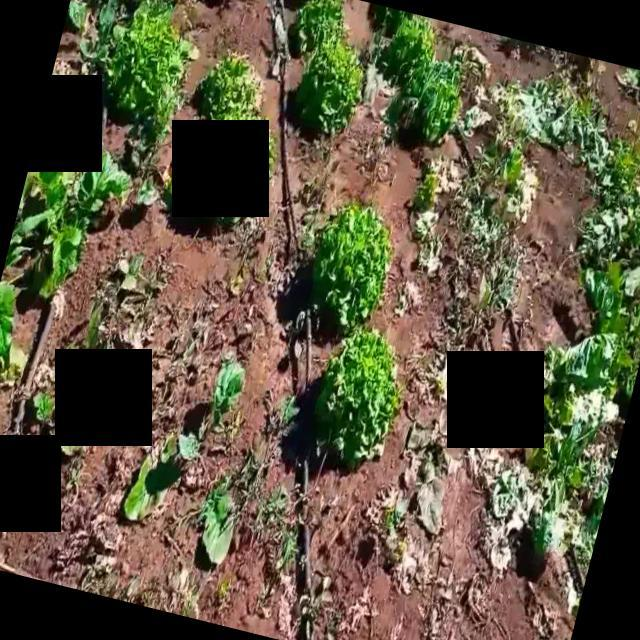Lettuce: (97, 0, 182, 128), (319, 329, 397, 468), (314, 202, 386, 331), (291, 30, 366, 140), (391, 61, 462, 142), (200, 50, 263, 119), (378, 13, 434, 82), (292, 0, 348, 48)
